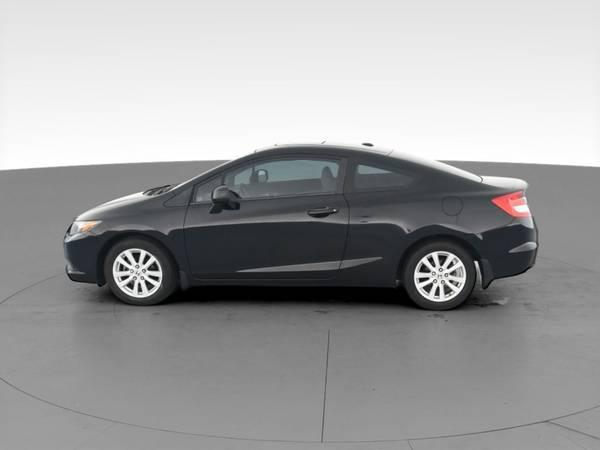Front_Bumper: (65, 233, 104, 287)
Front_Fender: (89, 186, 193, 289)
Front_Left_Door: (184, 196, 347, 287)
Front_Left_Window: (187, 155, 345, 208)
Hood: (74, 189, 162, 219)
Left_Headlight: (64, 221, 105, 238)
Left_Taillight: (490, 188, 530, 219)
Rear_Bumper: (474, 217, 540, 286)
Rear_Fender: (334, 157, 521, 287)
Roof: (168, 142, 486, 202)
Wheel: (101, 237, 176, 305), (403, 241, 474, 310)
